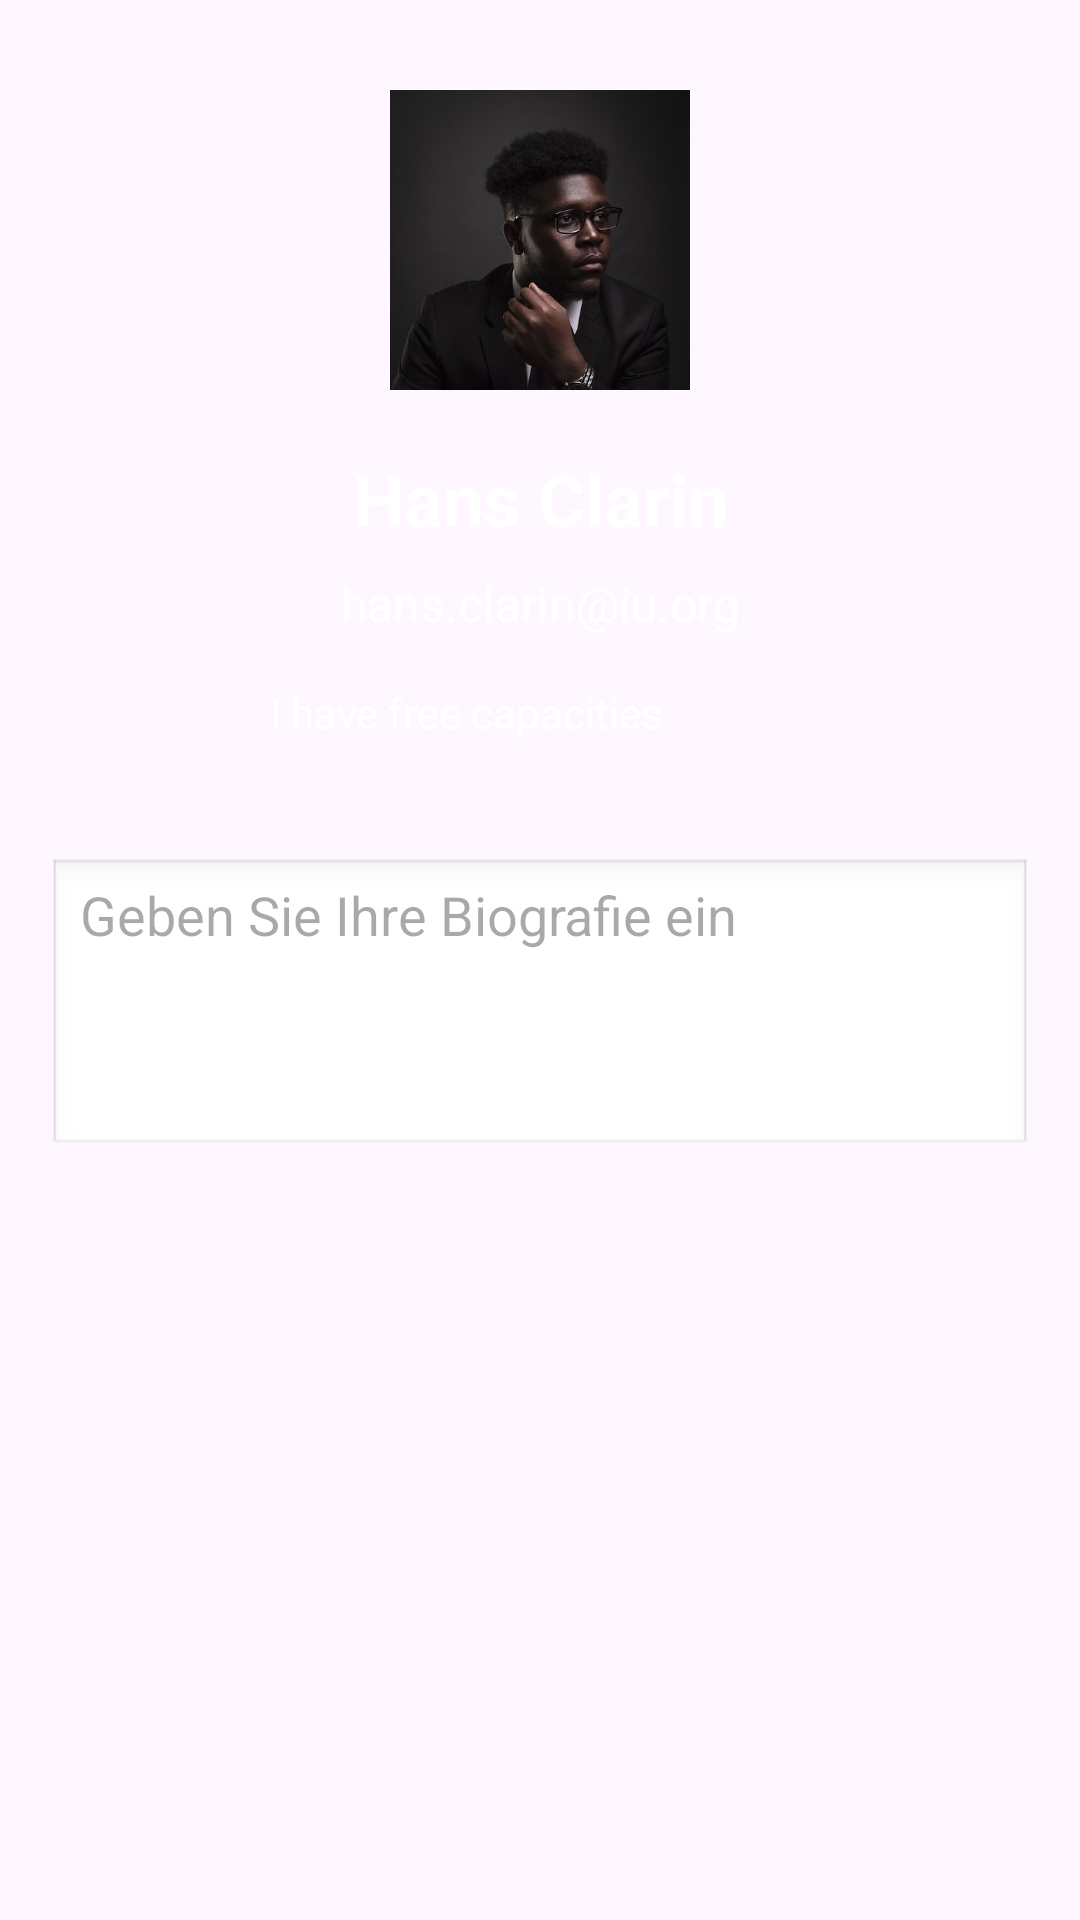

Icon click points for this 1080 x 1920 phone screenshot, format [x,y]:
profile header image showing profile picture: [540,240]
